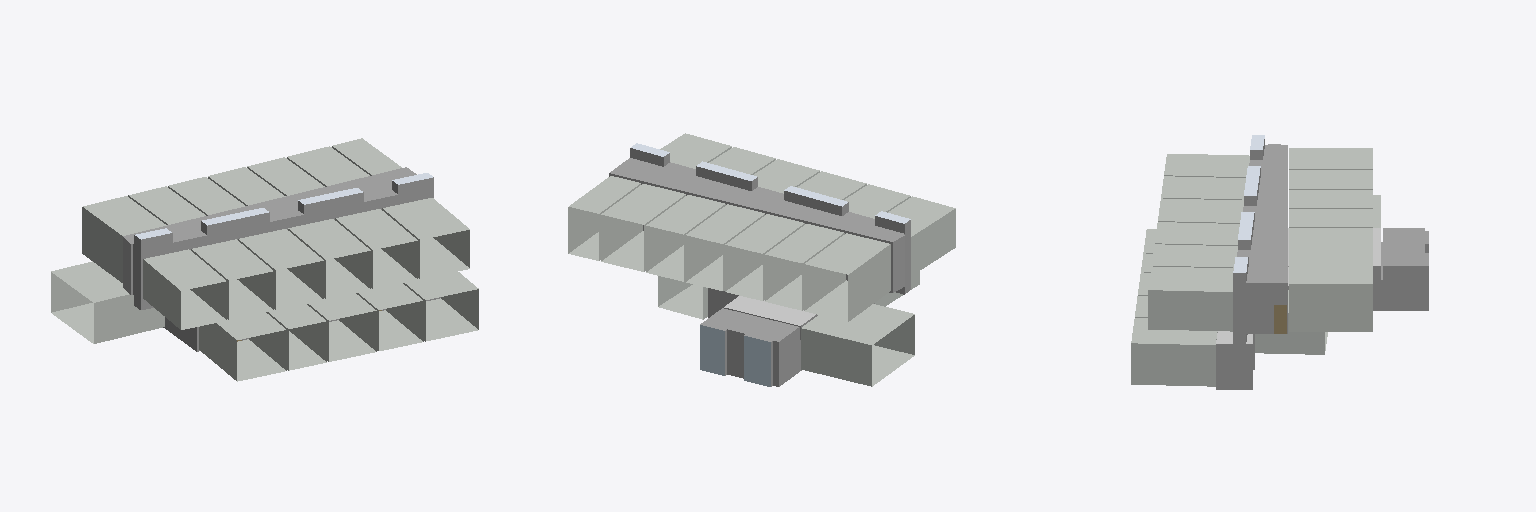
File: skylight_normal_v2_LS_sak_3052.obj
The picture shows the model from 3 angles: view 1: azimuth 30°, elevation 25°; view 2: azimuth 150°, elevation 25°; view 3: azimuth 270°, elevation 25°; orthographic projection.
Bounding box in the file's own units: 988 × 354 × 823.